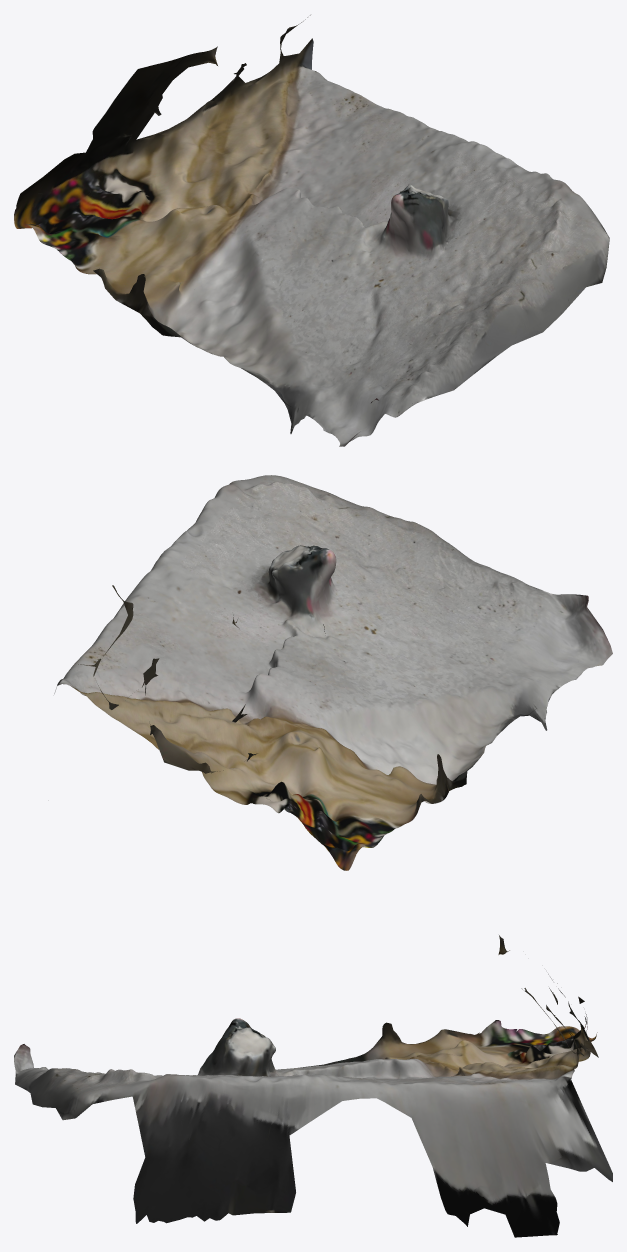
3 views of the same model, one above another, from view 1: azimuth 30°, elevation 25°; view 2: azimuth 150°, elevation 25°; view 3: azimuth 270°, elevation 25° (orthographic). The views are drawn at different scales.
Size of the model in its own units: 0.7699 by 0.4589 by 1.13.
Materials: 1 (1 with a texture image).
